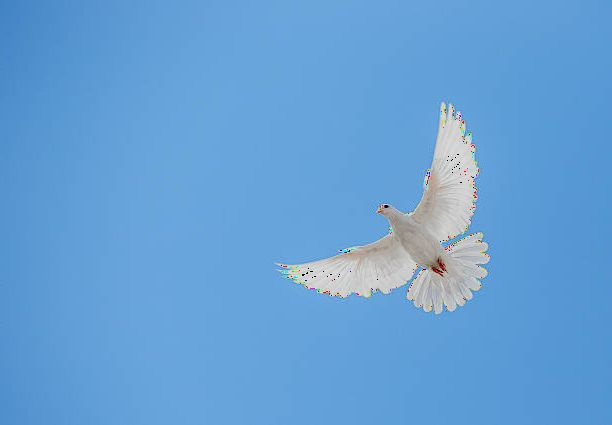Bird: (269, 99, 493, 317)
